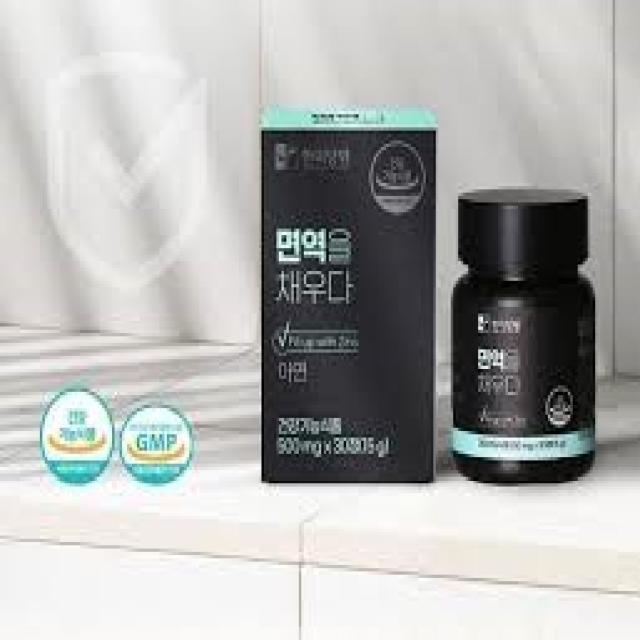GMP: (118, 400, 195, 485)
HEALTHY: (40, 386, 114, 484)
